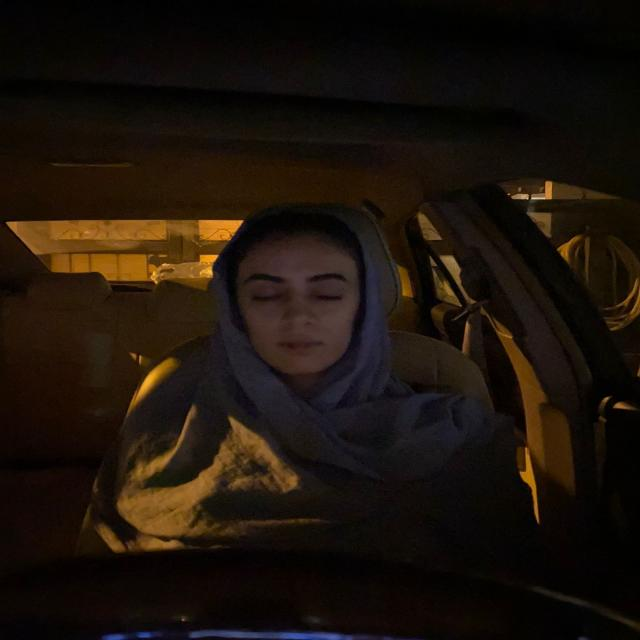drowsy: (196, 199, 393, 385)
